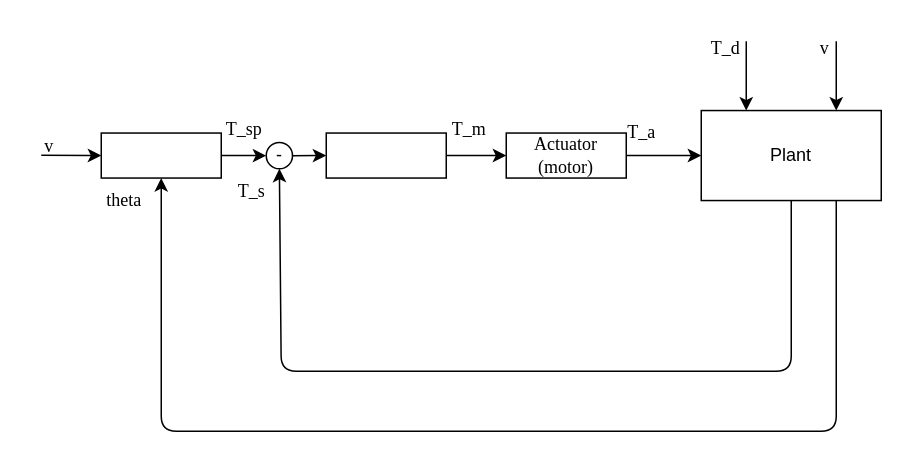
Some shapes in this 908 by 470 pixel diagram are drawn without their labels. The shapes that lost their labels are listed below. From the top down, each one's centre as x and y in pixels, then its label:
(x=160, y=155): Reference
(x=385, y=155): Controller
